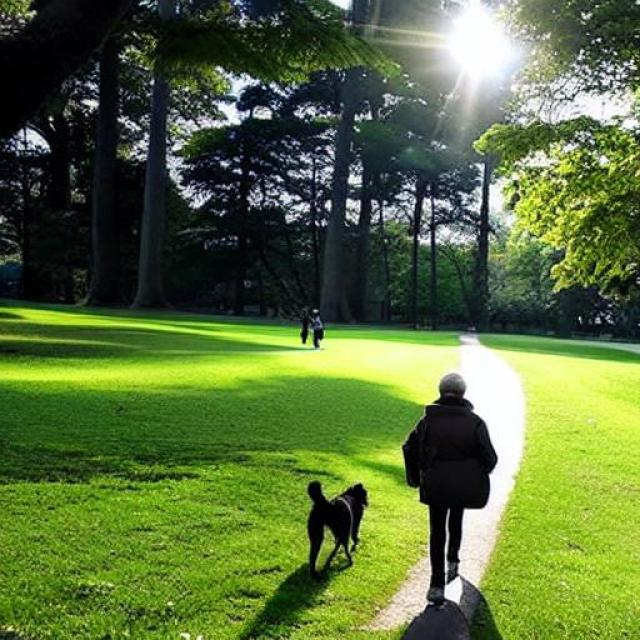Unleashed_Dog: (307, 479, 465, 578)
